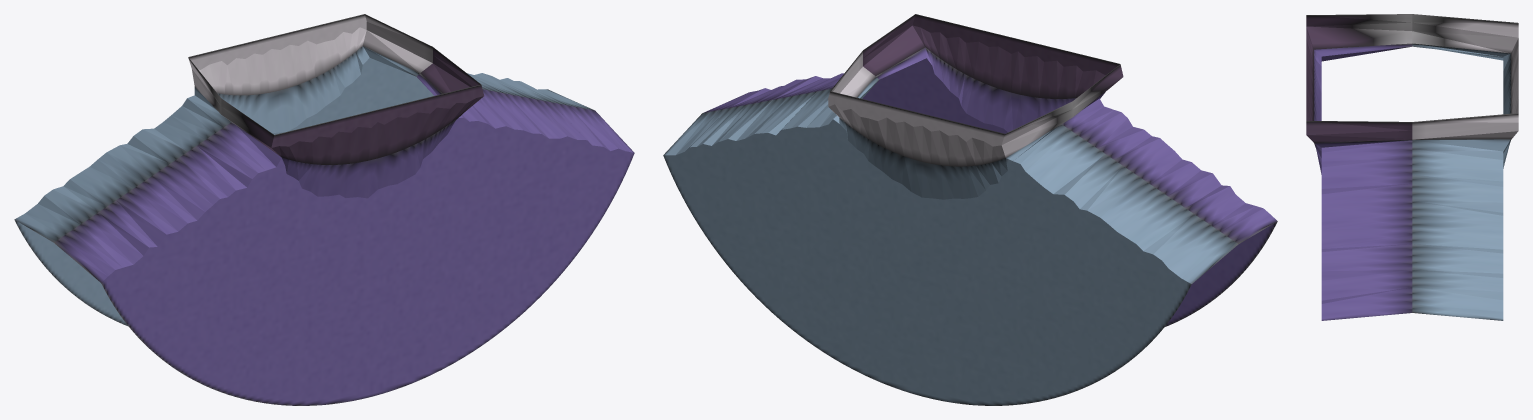
File: skirt_boxmesh.obj
3 views of the same model, side by side, from view 1: azimuth 30°, elevation 25°; view 2: azimuth 150°, elevation 25°; view 3: azimuth 270°, elevation 25° (orthographic). The views are drawn at different scales.
Bounding box in the file's own units: 108 × 55.75 × 35.
1 material, 1 textured.
